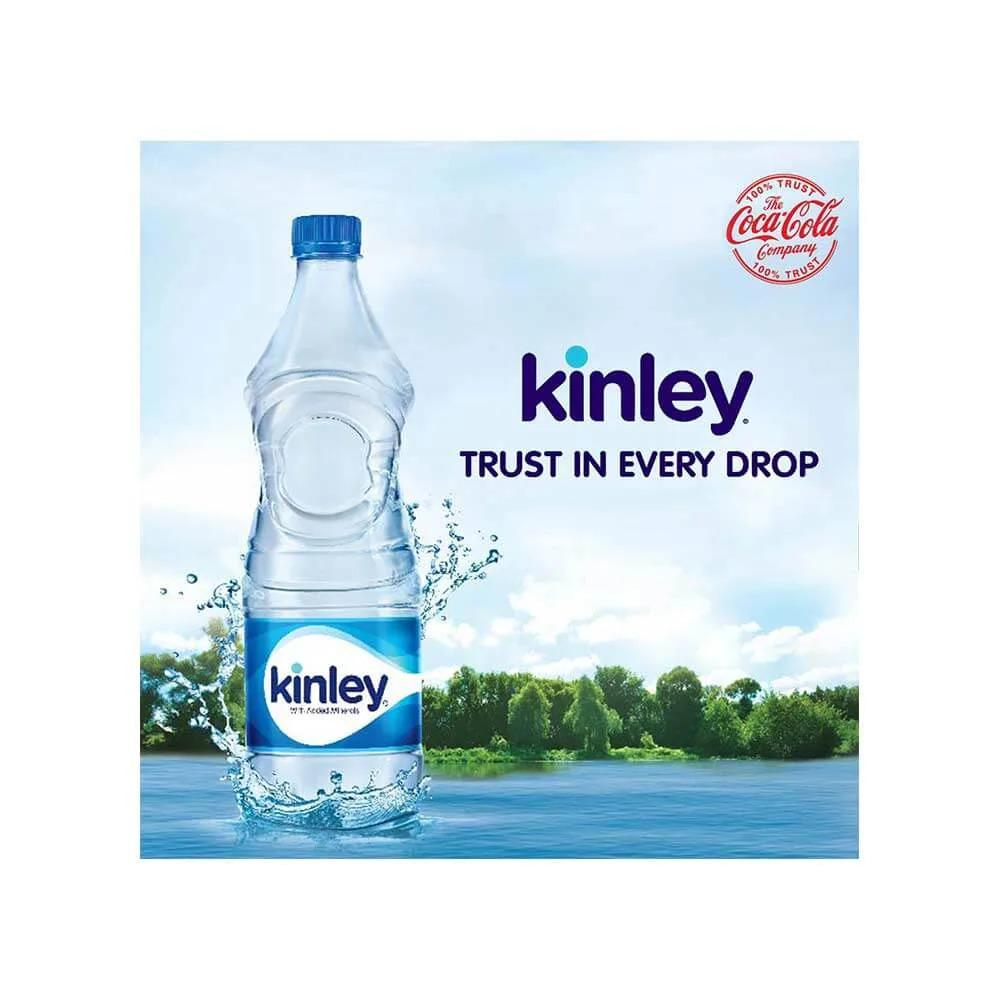plastic_bottle: (237, 213, 419, 825)
